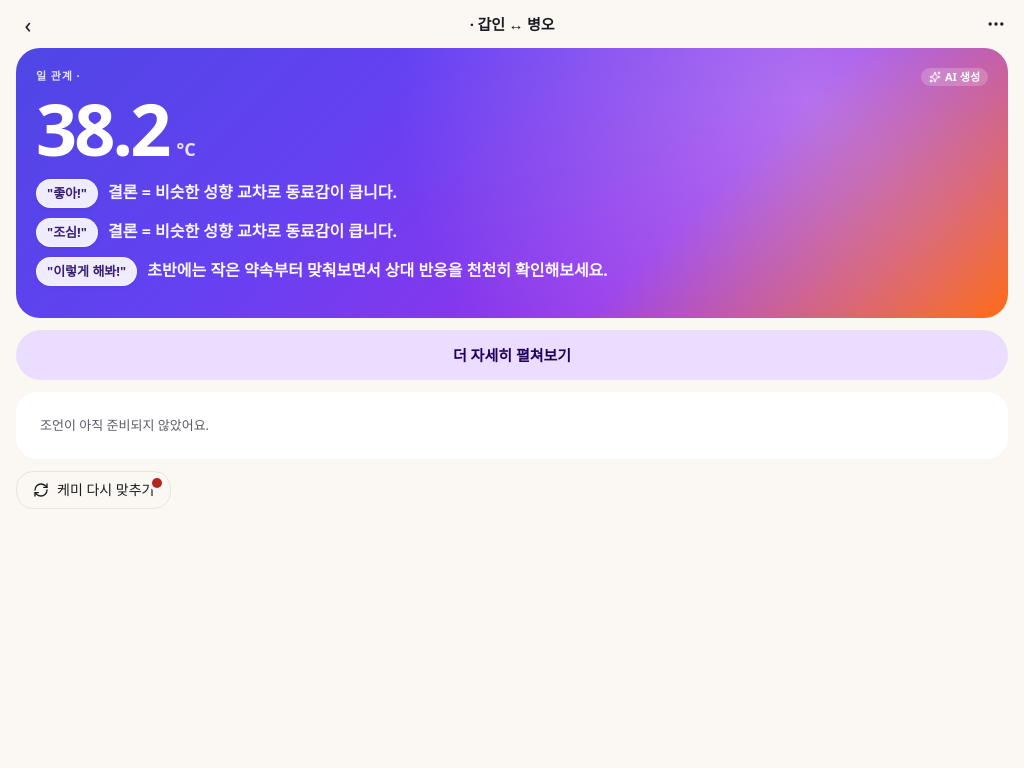
Test: HapcardView 쉽게 보기 토글 (G-5) › OFF 토글 상태는 localStorage 에 보존된다
Click the button "더 자세히 펼쳐보기".
click(512, 355)  # box left=16, top=330, right=1008, bottom=380
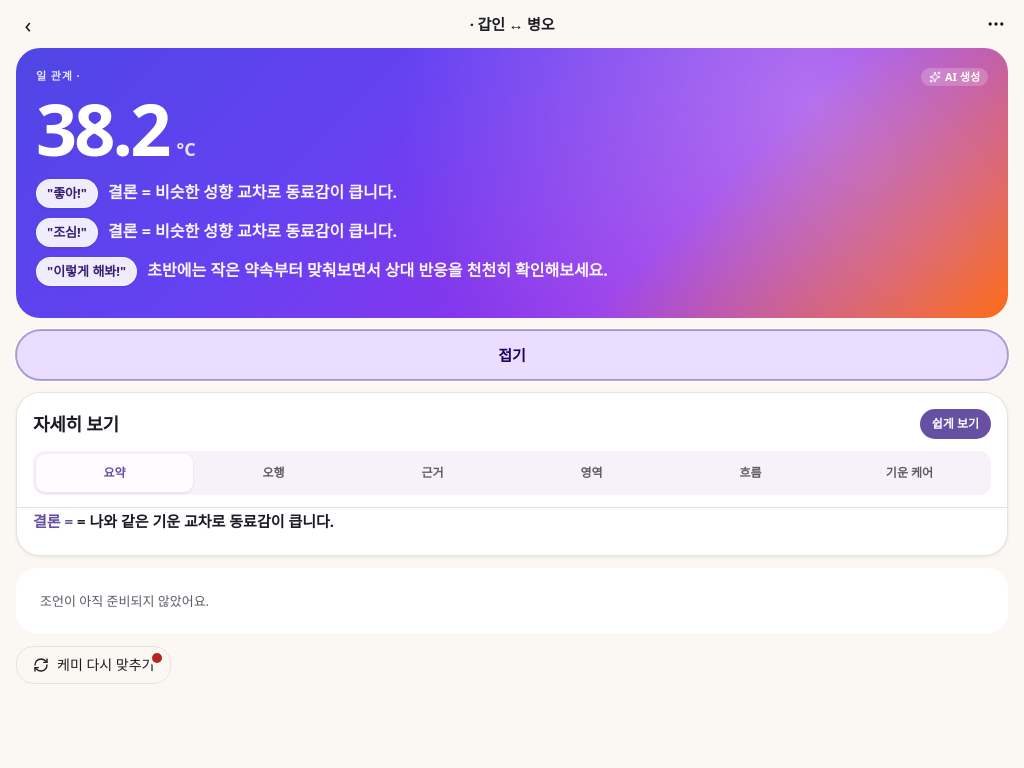
Click the switch labelled "쉽게 보기".
click(955, 424)  # box left=920, top=409, right=991, bottom=439
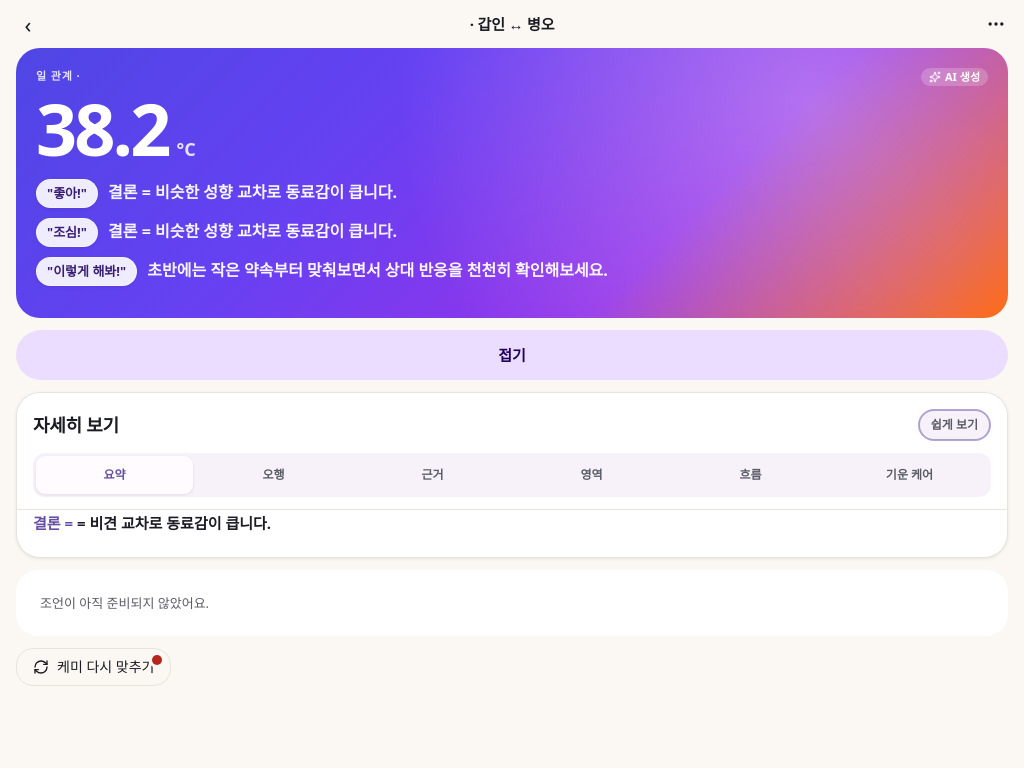
Check: the text "= 비견 교차로 동료감이 큽니다." is shown, box left=77, top=513, right=271, bottom=533
Check: the text "나와 같은 기운 교차" is gone
